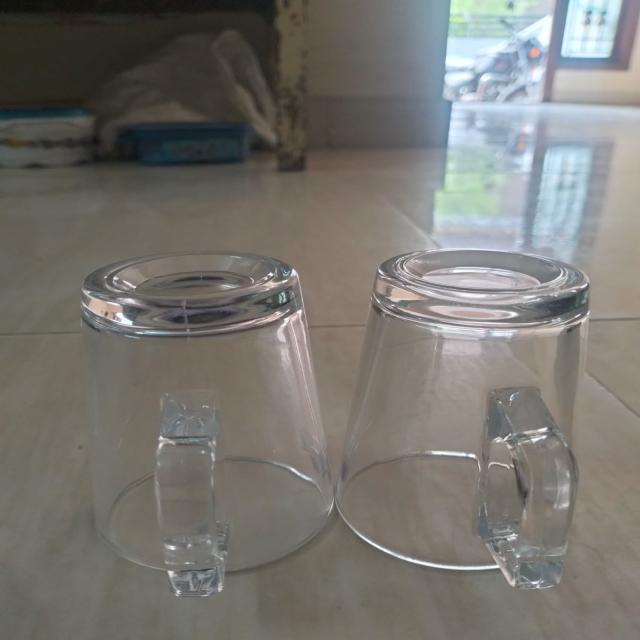glass-VX4N: (333, 241, 628, 599), (68, 248, 339, 594)
